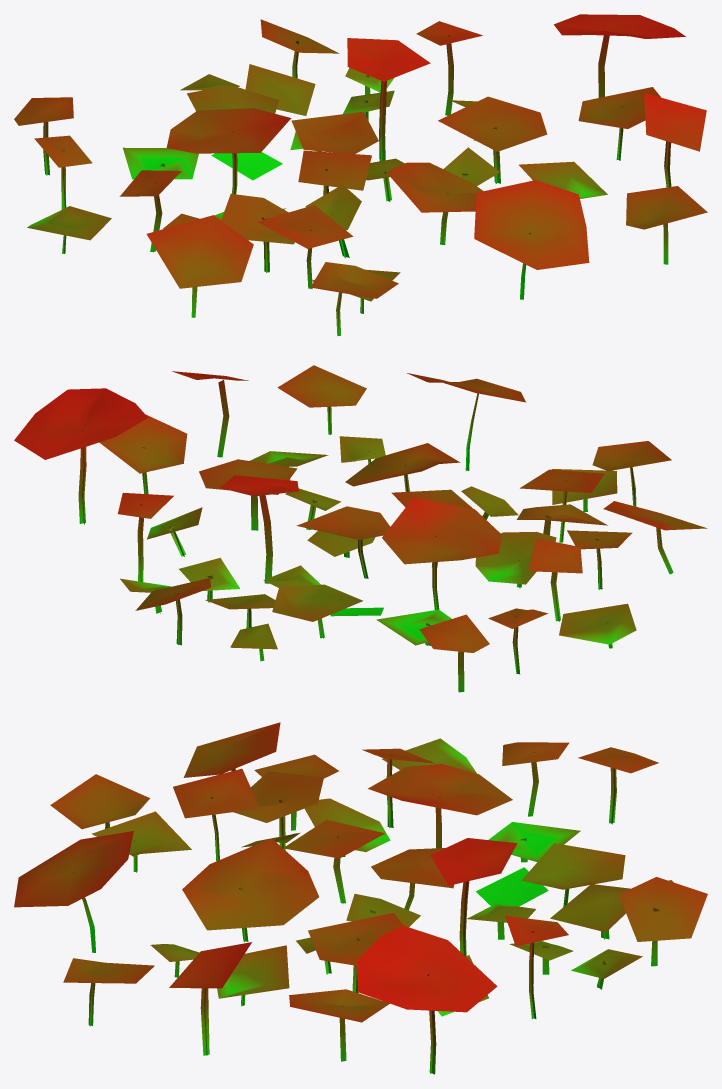
File: Var3_LOD0.fbx
3 renders of one model, top to bottom at view 1: azimuth 30°, elevation 25°; view 2: azimuth 150°, elevation 25°; view 3: azimuth 270°, elevation 25°, orthographic. The views are drawn at different scales.
Parts seen in each view (by area): view 1: _814e_Var3_LOD0; view 2: _814e_Var3_LOD0; view 3: _814e_Var3_LOD0.
Part boxes in pixels (x1,y1,x2,y2): _814e_Var3_LOD0: (14,14,707,336); _814e_Var3_LOD0: (14,365,707,692); _814e_Var3_LOD0: (14,722,707,1074).
Size of the model in its own units: 40.17 by 7.08 by 35.48.
